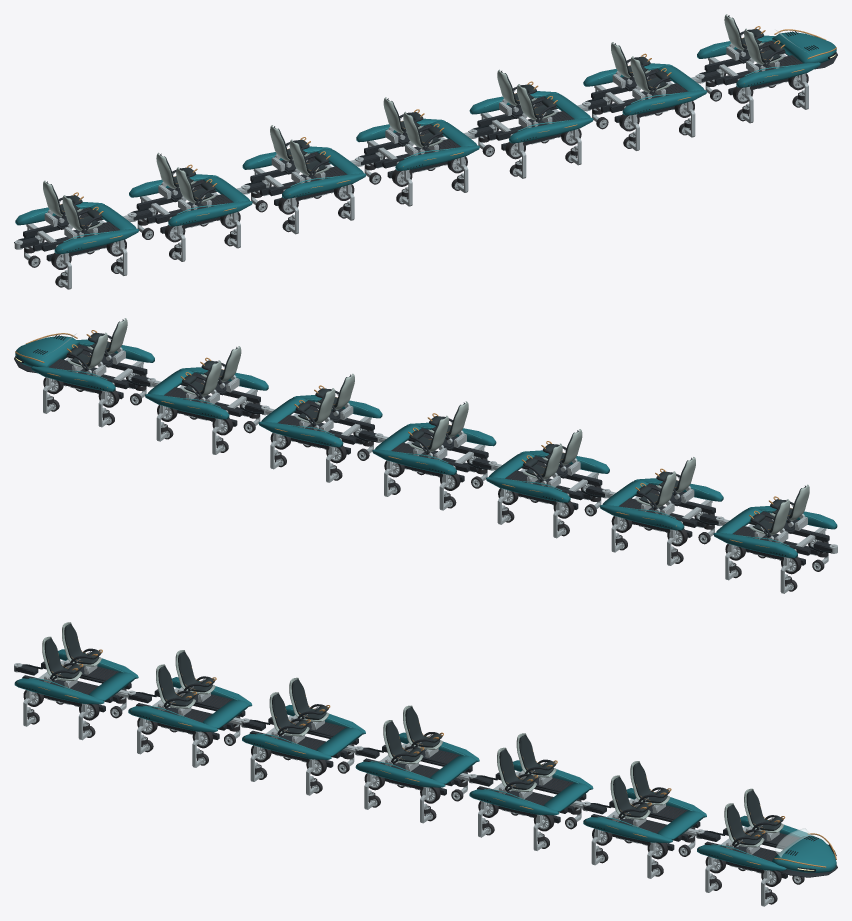
Rendered from Riftwake-Train.glb.
The picture shows the model from 3 angles, top to bottom: view 1: azimuth 30°, elevation 25°; view 2: azimuth 150°, elevation 25°; view 3: azimuth 330°, elevation 25°; orthographic projection.
Visible parts, largest first — view 1: Riftwake car 01, Riftwake car 04, Riftwake car 07, Riftwake car 03, Riftwake car 02, Riftwake car 06, Riftwake car 05; view 2: Riftwake car 01, Riftwake car 07, Riftwake car 05, Riftwake car 02, Riftwake car 04, Riftwake car 06, Riftwake car 03; view 3: Riftwake car 01, Riftwake car 02, Riftwake car 03, Riftwake car 07, Riftwake car 05, Riftwake car 06, Riftwake car 04.
Boxes of the visible parts, left/top/right/bottom form: Riftwake car 01: left=695, top=14, right=837, bottom=123; Riftwake car 04: left=355, top=97, right=479, bottom=206; Riftwake car 07: left=14, top=180, right=138, bottom=289; Riftwake car 03: left=468, top=69, right=593, bottom=178; Riftwake car 02: left=582, top=42, right=707, bottom=150; Riftwake car 06: left=127, top=152, right=252, bottom=261; Riftwake car 05: left=241, top=125, right=366, bottom=234; Riftwake car 01: left=14, top=318, right=155, bottom=427; Riftwake car 07: left=713, top=484, right=837, bottom=593; Riftwake car 05: left=486, top=429, right=610, bottom=538; Riftwake car 02: left=145, top=346, right=269, bottom=454; Riftwake car 04: left=372, top=401, right=496, bottom=510; Riftwake car 06: left=599, top=457, right=724, bottom=565; Riftwake car 03: left=258, top=373, right=383, bottom=482; Riftwake car 01: left=696, top=788, right=837, bottom=906; Riftwake car 02: left=582, top=761, right=706, bottom=878; Riftwake car 03: left=468, top=733, right=593, bottom=850; Riftwake car 07: left=14, top=622, right=138, bottom=740; Riftwake car 05: left=241, top=677, right=365, bottom=795; Riftwake car 06: left=127, top=650, right=252, bottom=767; Riftwake car 04: left=355, top=705, right=479, bottom=823.
Size of the model in its own units: 24.52 by 2.42 by 2.35.
